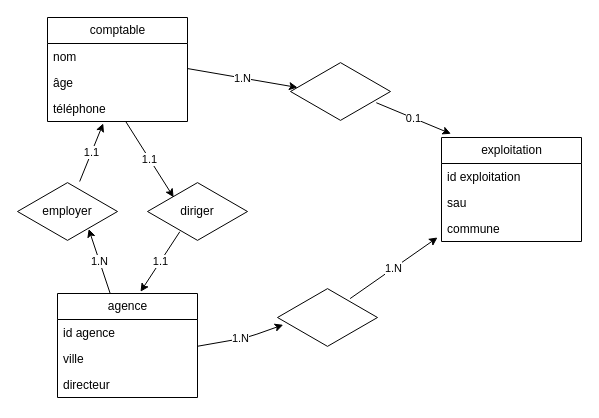
The diagram is 599 pixels wide and 418 high, and some of its shapes have lost their labels. Here are the shapes that lost their labels. From the top down, the centre of each, then its label:
the point at 340,91: gérer
the point at 327,317: Localiser
